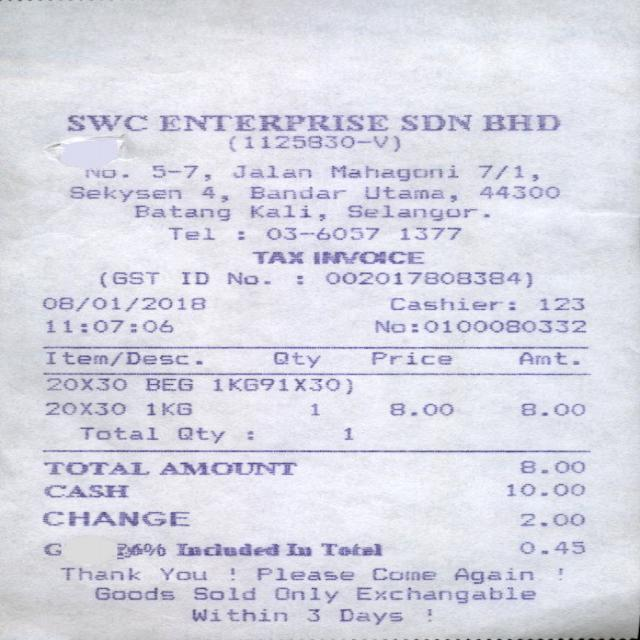text: (157, 113, 387, 129), (322, 271, 530, 287), (353, 585, 532, 602), (226, 134, 399, 150), (374, 318, 583, 331), (212, 376, 351, 393), (40, 296, 204, 310), (44, 351, 200, 365), (41, 510, 188, 524), (346, 203, 474, 219), (329, 164, 456, 180), (66, 184, 178, 200), (156, 462, 294, 474), (46, 318, 170, 331), (390, 296, 513, 309), (133, 203, 229, 219), (42, 460, 148, 474), (172, 541, 277, 555), (263, 226, 376, 239), (364, 184, 454, 200), (255, 566, 353, 580), (452, 566, 532, 583), (63, 113, 147, 129), (248, 184, 343, 198), (311, 251, 421, 263), (479, 113, 558, 129), (190, 607, 286, 620), (249, 203, 322, 219), (400, 113, 470, 129), (370, 350, 450, 364), (58, 566, 138, 580), (45, 377, 125, 390), (92, 586, 172, 599), (231, 164, 310, 177), (78, 426, 157, 439), (336, 608, 400, 624), (42, 484, 127, 496), (41, 402, 122, 414), (476, 163, 536, 179), (479, 185, 559, 197), (96, 270, 156, 286), (273, 587, 336, 602), (505, 482, 583, 494), (150, 164, 207, 180), (370, 566, 433, 580), (517, 350, 578, 364), (192, 586, 252, 600), (113, 542, 163, 558), (175, 425, 222, 442), (516, 541, 582, 553), (518, 460, 583, 472), (518, 513, 583, 525), (399, 226, 458, 239), (387, 402, 450, 414), (272, 351, 319, 367), (521, 402, 583, 414), (319, 542, 379, 554), (250, 249, 300, 262), (166, 226, 212, 239), (159, 566, 205, 579), (537, 296, 582, 309), (143, 378, 190, 390), (144, 402, 190, 414), (225, 271, 267, 283), (198, 186, 226, 201), (179, 271, 206, 283), (285, 542, 310, 554), (84, 169, 125, 176), (41, 542, 58, 554), (304, 607, 318, 620), (308, 402, 317, 414), (342, 426, 350, 439)
